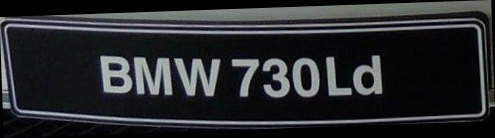character: (172, 54, 221, 96), (131, 52, 172, 96), (98, 53, 134, 95), (228, 57, 260, 98), (290, 57, 320, 100), (261, 58, 291, 100), (323, 55, 353, 97)
